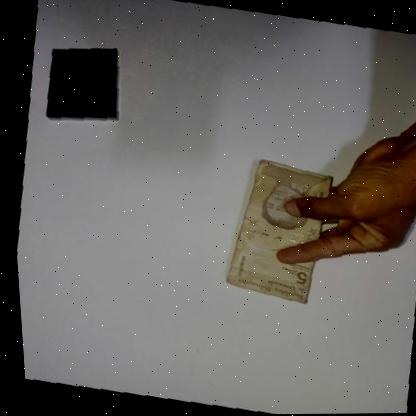five-front-vef: (212, 154, 338, 307)
